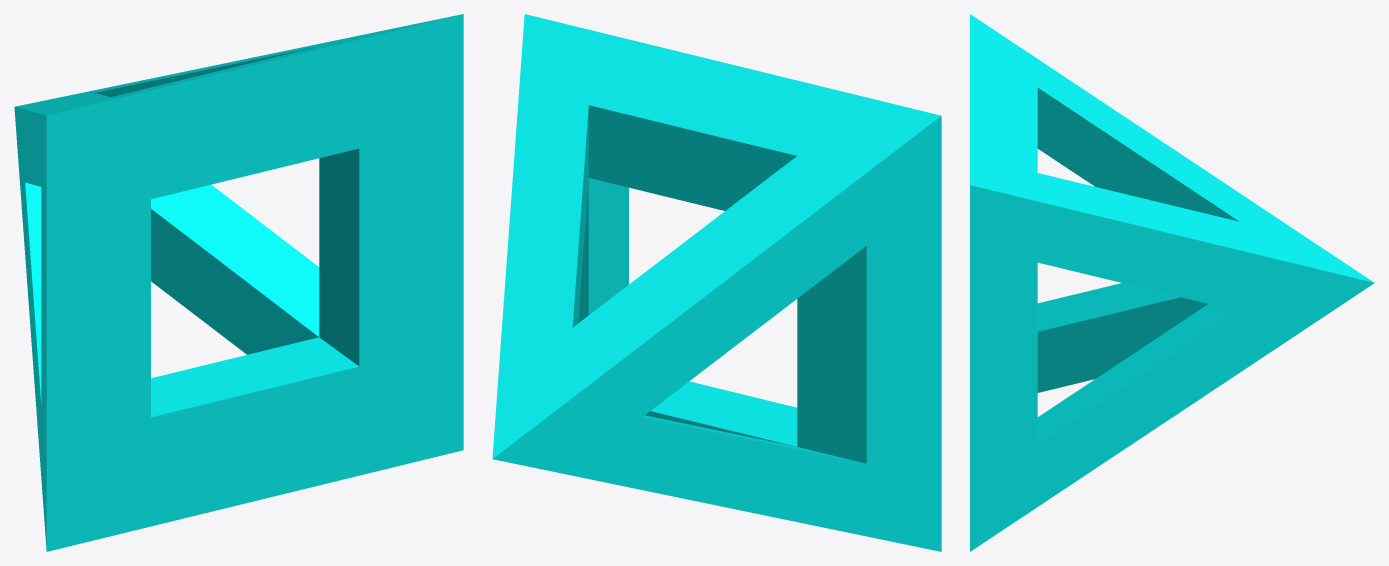
File: Artifact.fbx
3 renders of one model, left to right at view 1: azimuth 30°, elevation 25°; view 2: azimuth 150°, elevation 25°; view 3: azimuth 270°, elevation 25°, orthographic. The views are drawn at different scales.
Parts seen in each view (by area): view 1: Cube; view 2: Cube; view 3: Cube.
Boxes of the visible parts, x1,y1,x2,y2 form: Cube: (14,14,463,551); Cube: (492,14,941,551); Cube: (970,14,1374,551).
Bounding box in the file's own units: 0.7 × 0.7 × 0.7.
1 material, 1 textured.
